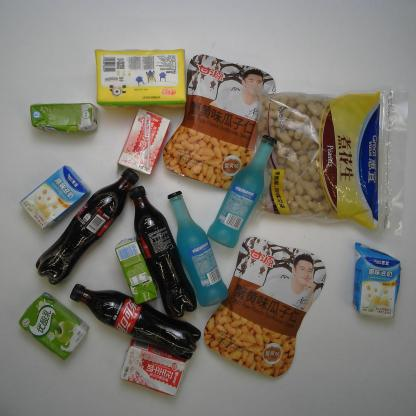Alcohol: (206, 134, 278, 250), (166, 190, 230, 309)
Dried Food: (249, 86, 408, 235)
Dried Fruit: (201, 235, 328, 378), (161, 52, 277, 194)
Drink: (35, 167, 140, 285), (69, 281, 201, 360), (126, 184, 196, 317)
Milk: (18, 290, 90, 363), (19, 164, 91, 233), (351, 240, 403, 320), (119, 338, 187, 396), (117, 107, 171, 177), (114, 236, 158, 306), (28, 101, 98, 136)
Tissue: (95, 48, 188, 110)
